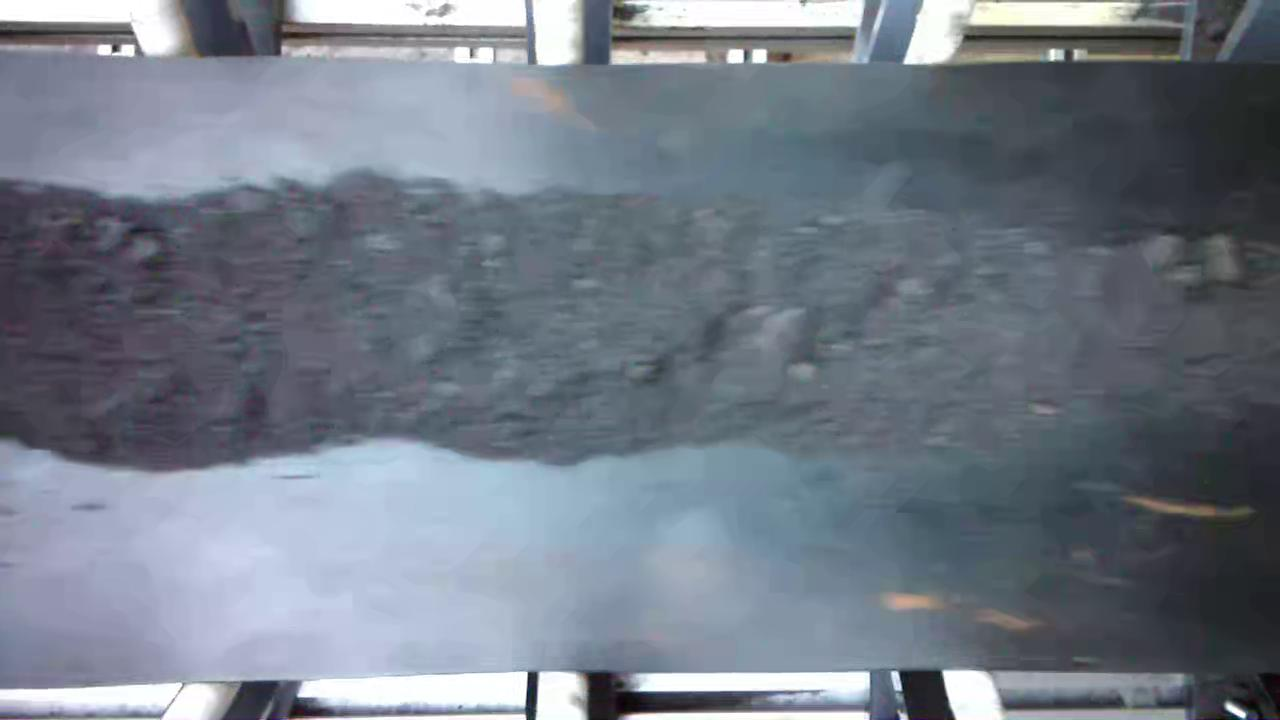conveyor: (1, 72, 1280, 654)
